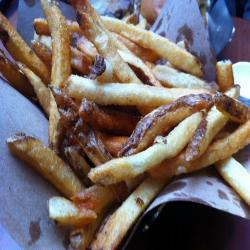fries: (7, 15, 250, 204)
